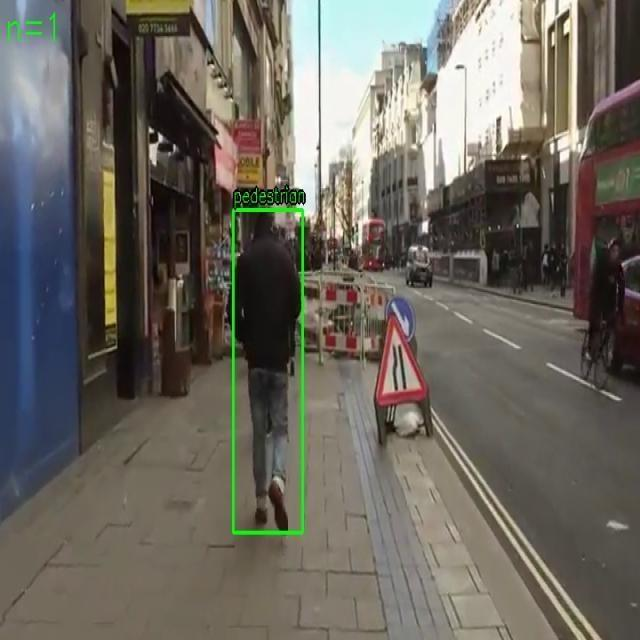person: (233, 210, 303, 534)
